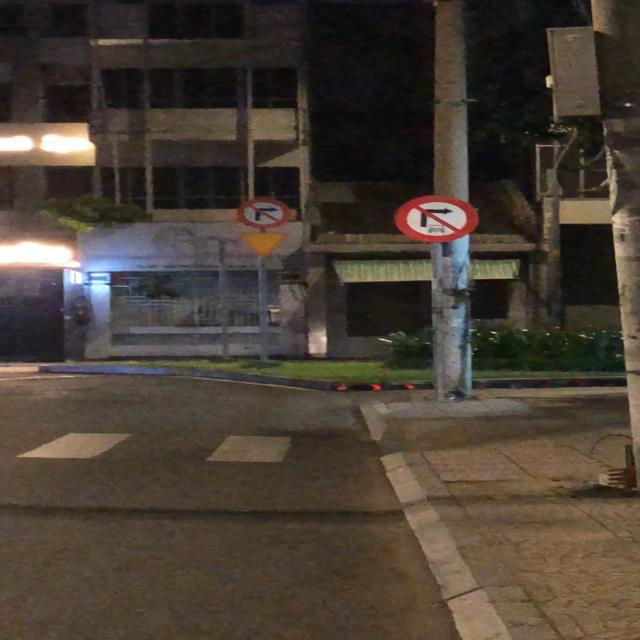Bien bao cam re phai: (233, 197, 293, 230)
Bien bao cam xe o to re phai: (393, 193, 482, 243)
Bien bao giao nhau voi duong uu tien: (235, 230, 293, 261)
